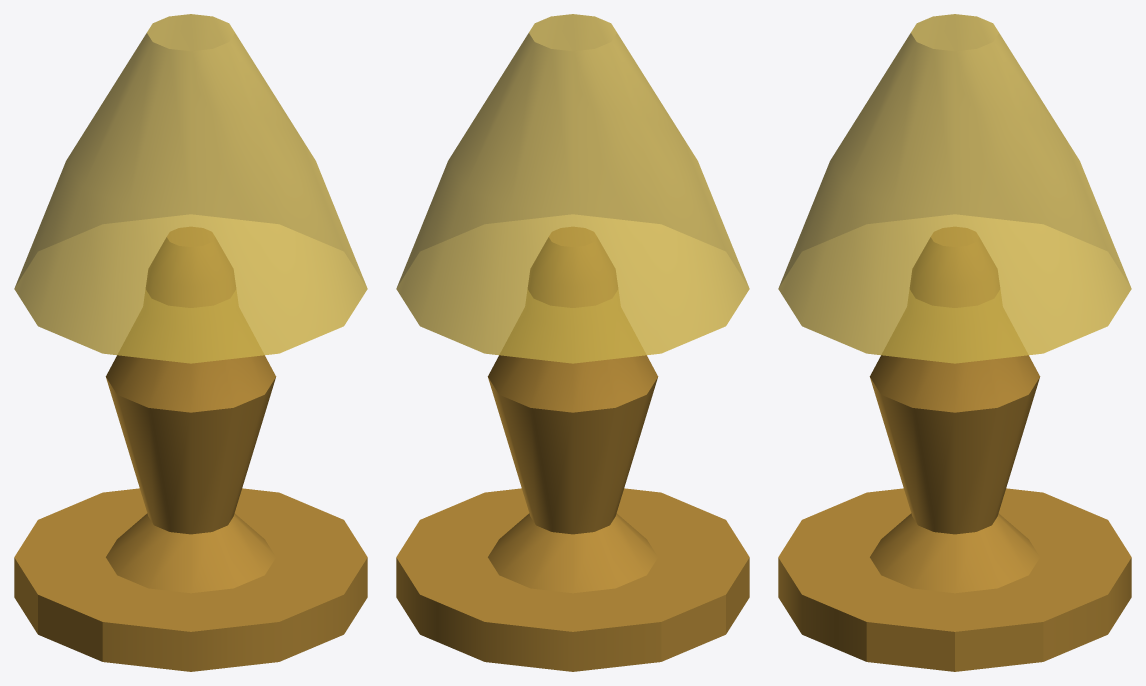
File: lamp.fbx
The picture shows the model from 3 angles, left to right: view 1: azimuth 30°, elevation 25°; view 2: azimuth 150°, elevation 25°; view 3: azimuth 270°, elevation 25°; orthographic projection.
Parts seen in each view (by area): view 1: Cone; view 2: Cone; view 3: Cone.
Part boxes in pixels (left/top/right/bottom): Cone: left=14, top=14, right=367, bottom=671; Cone: left=396, top=14, right=749, bottom=671; Cone: left=778, top=14, right=1131, bottom=671.
Bounding box in the file's own units: 50 × 88.12 × 50.
